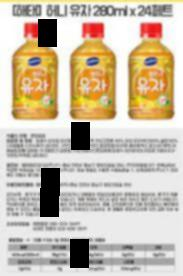honeyyuja: (8, 24, 60, 120), (67, 24, 118, 121), (128, 24, 174, 121)
